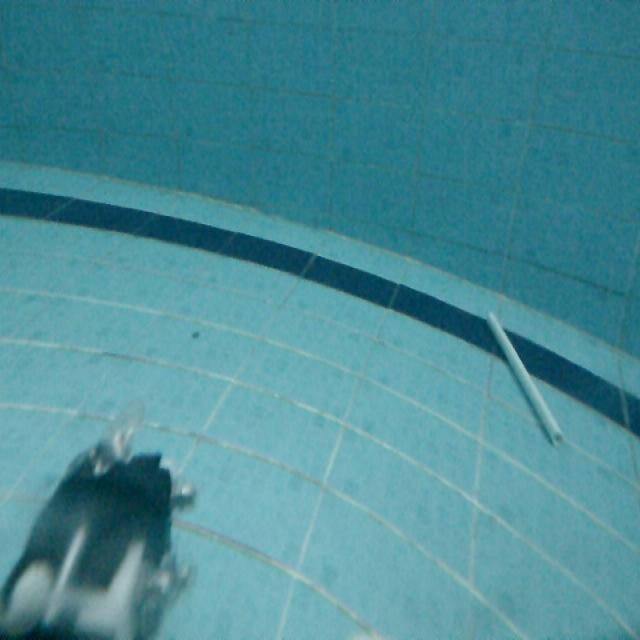Cube: (487, 310, 568, 448)
